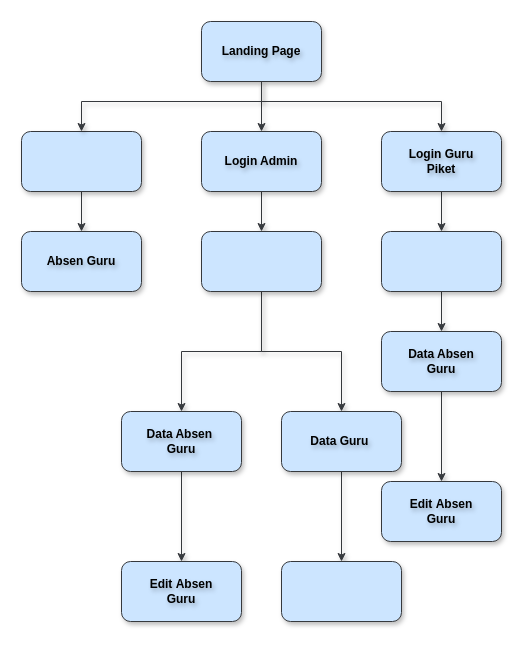
The diagram is 525 pixels wide and 646 high, and some of its shapes have lost their labels. Here are the shapes that lost their labels. From the top down, the centre of each, then its label:
At pixel 82 162: "Login Guru".
At pixel 262 262: "Beranda Admin".
At pixel 442 262: "Beranda Guru Piket".
At pixel 342 592: "Edit Data Guru".
